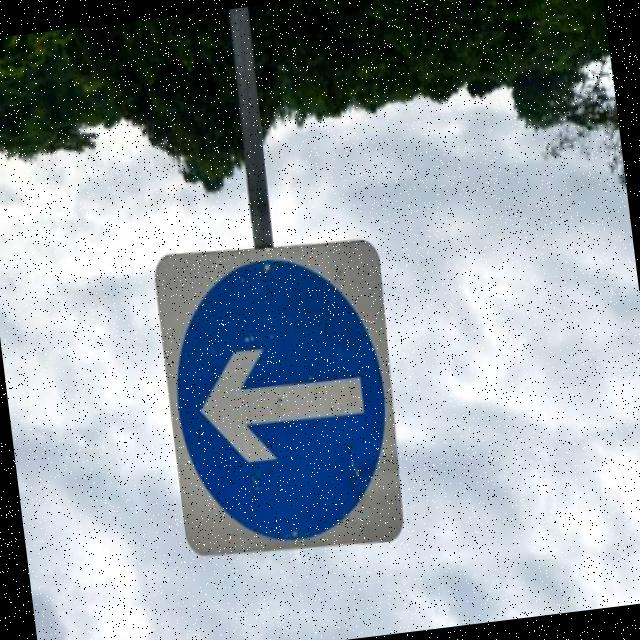compulsory_keep_right: (160, 245, 403, 556)
